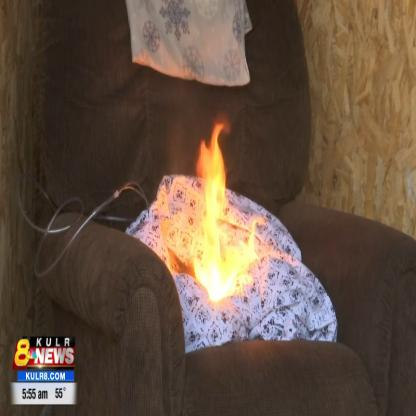fire: (160, 107, 271, 317)
